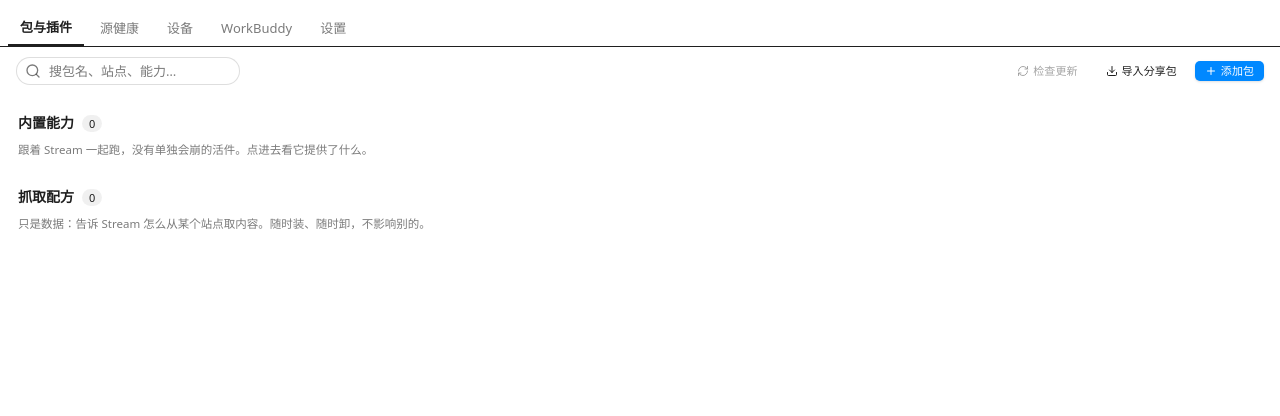
Test: DSH 设置里的 Stream 分区 › 有一页「设置」：采集浏览器、远程访问、音频归档
The width and height of the screenshot is (1280, 416).
Click the tab "设置".
click(333, 29)  # box [308, 12, 358, 46]
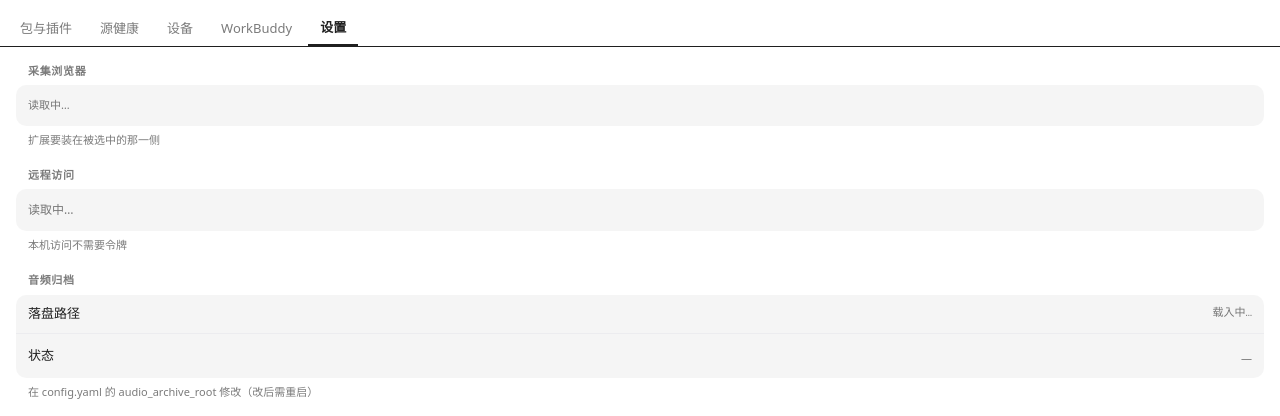
Expected: the text "采集浏览器" is shown, [28, 62, 86, 79]
Expected: the text "远程访问" is shown, [28, 167, 75, 183]
Expected: the text "音频归档" is shown, [28, 272, 75, 289]
